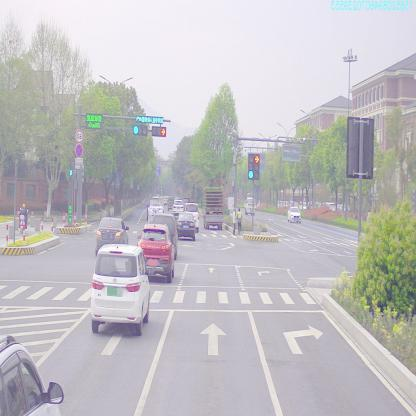traffic-light: (135, 117, 165, 125), (150, 126, 167, 139), (132, 125, 148, 135)
